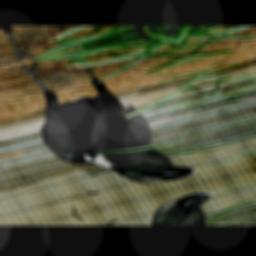Crow: (0, 40, 203, 204)
